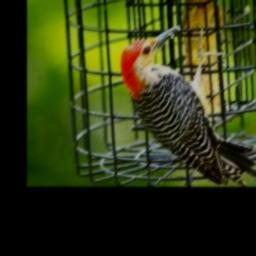Woodpecker: (120, 24, 256, 185)
